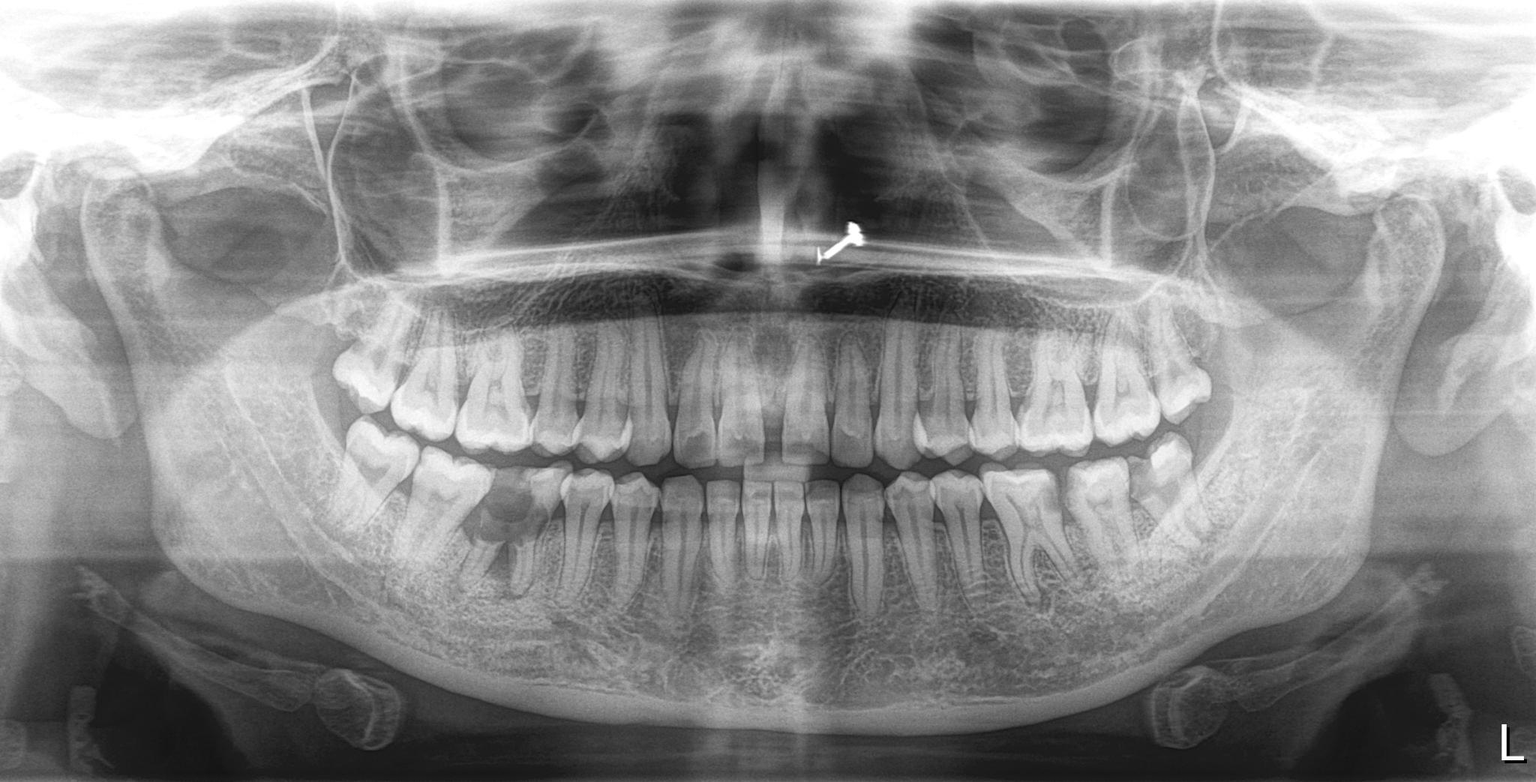Dental Caries: (472, 472, 554, 547), (1138, 474, 1186, 531), (1046, 499, 1088, 541)
